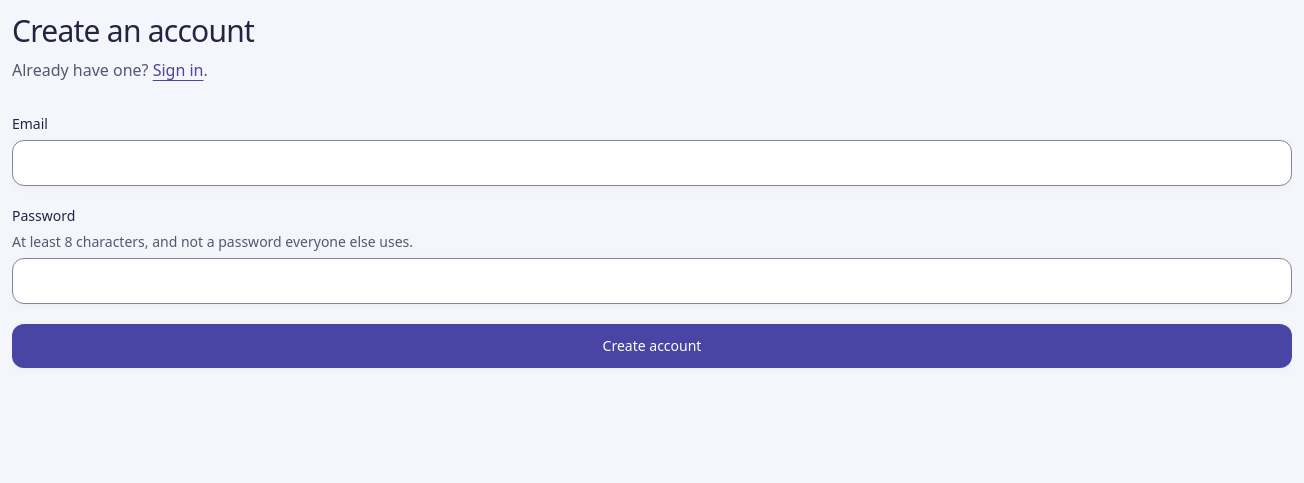
Test: what it sends › shows the API's wording when registration is refused, without inventing a reason
Type "learner@example.test" into the field labelled "Email".
click(652, 162); type("learner@example.test")  # box [12,140,1292,186]
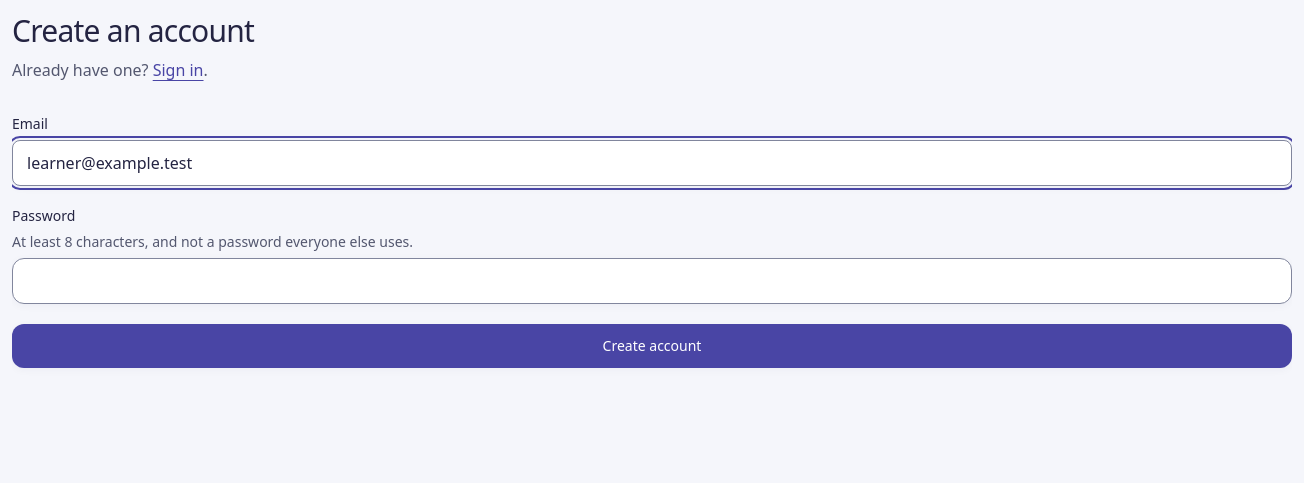
Type "a long enough password" into the password field labelled "Password".
click(652, 280); type("a long enough password")  # box [12,258,1292,304]
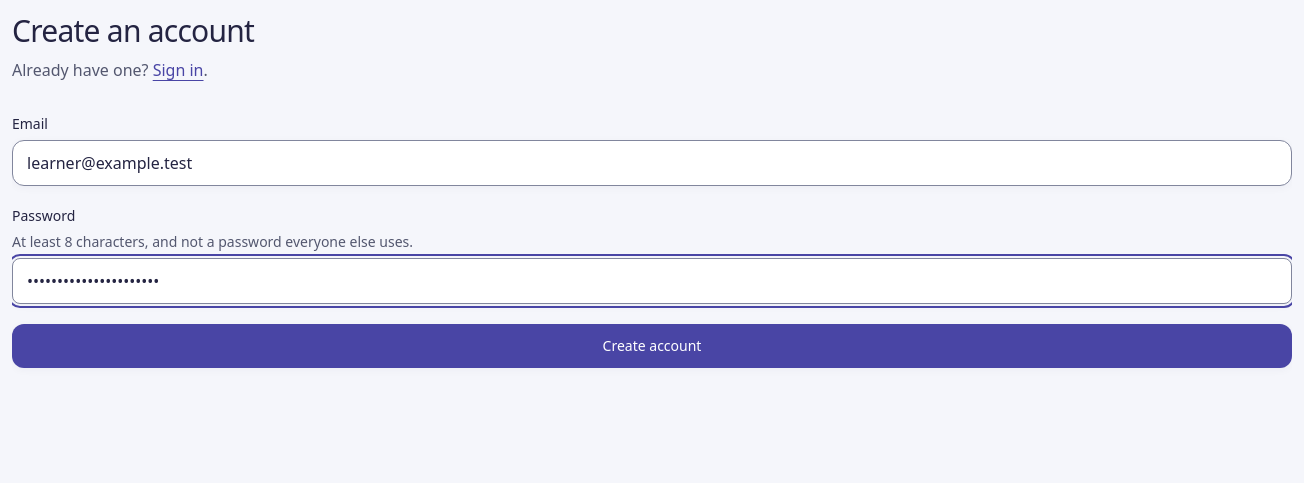
Click the button "Create account".
click(652, 346)  # box [12,324,1292,368]
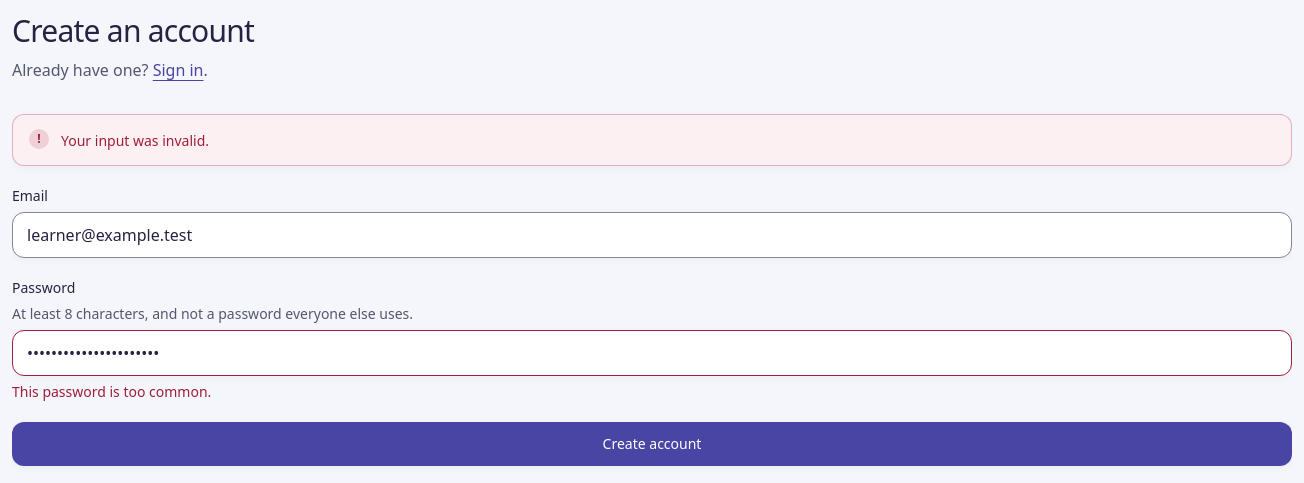
Check: the list item "This password is too common." is shown, box [12,382,211,400]
